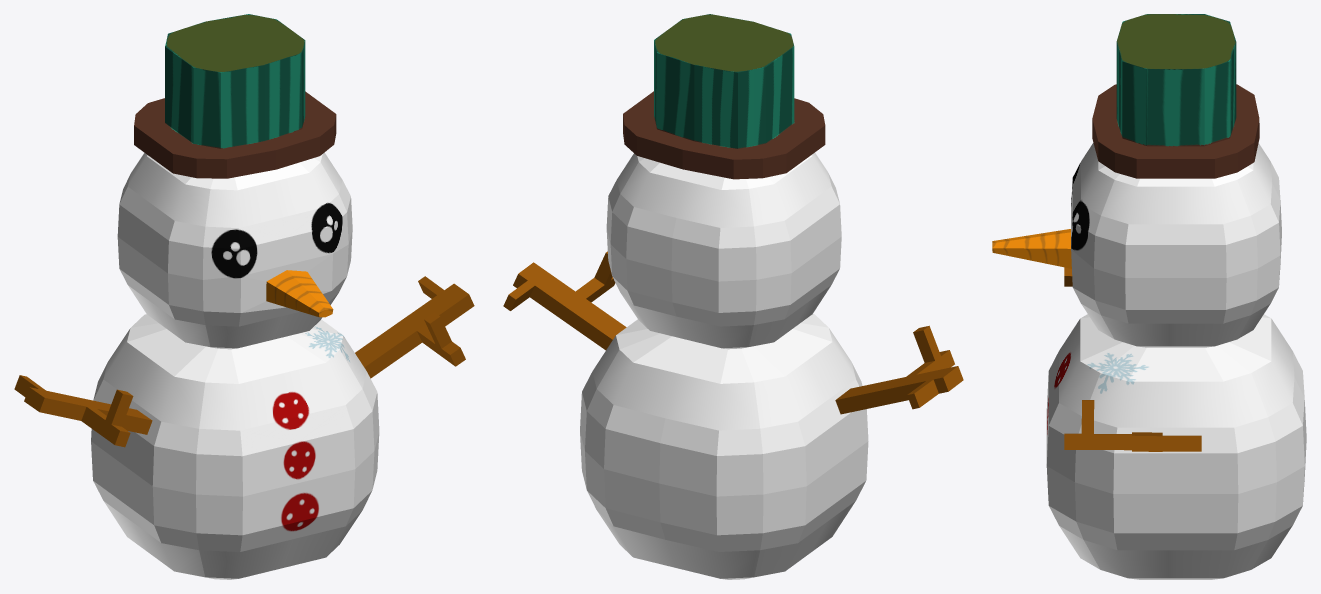
File: snowmanT.FBX
The picture shows the model from 3 angles, left to right: view 1: azimuth 30°, elevation 25°; view 2: azimuth 150°, elevation 25°; view 3: azimuth 270°, elevation 25°; orthographic projection.
Visible parts, largest first — view 1: Box001; view 2: Box001; view 3: Box001.
Boxes of the visible parts, x1,y1,x2,y2 form: Box001: (14, 14, 474, 579); Box001: (503, 14, 963, 579); Box001: (992, 14, 1306, 579).
Size of the model in its own units: 1.33 by 1.48 by 0.8225.
1 material, 1 textured.
